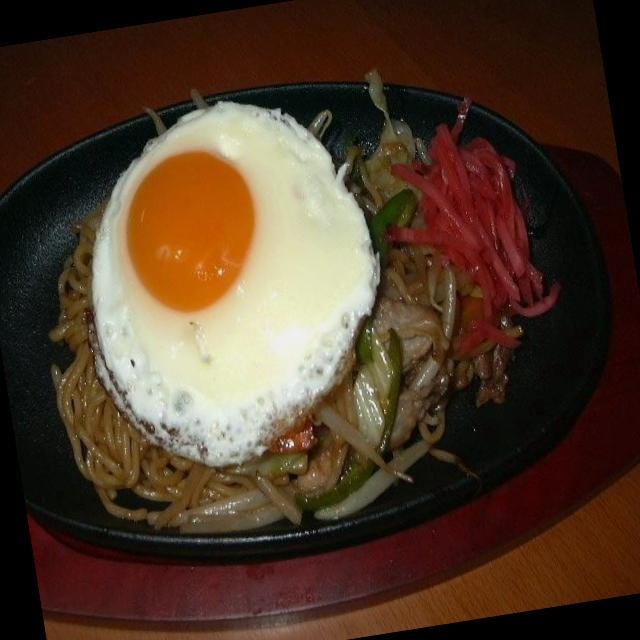Egg: (57, 72, 403, 480)
